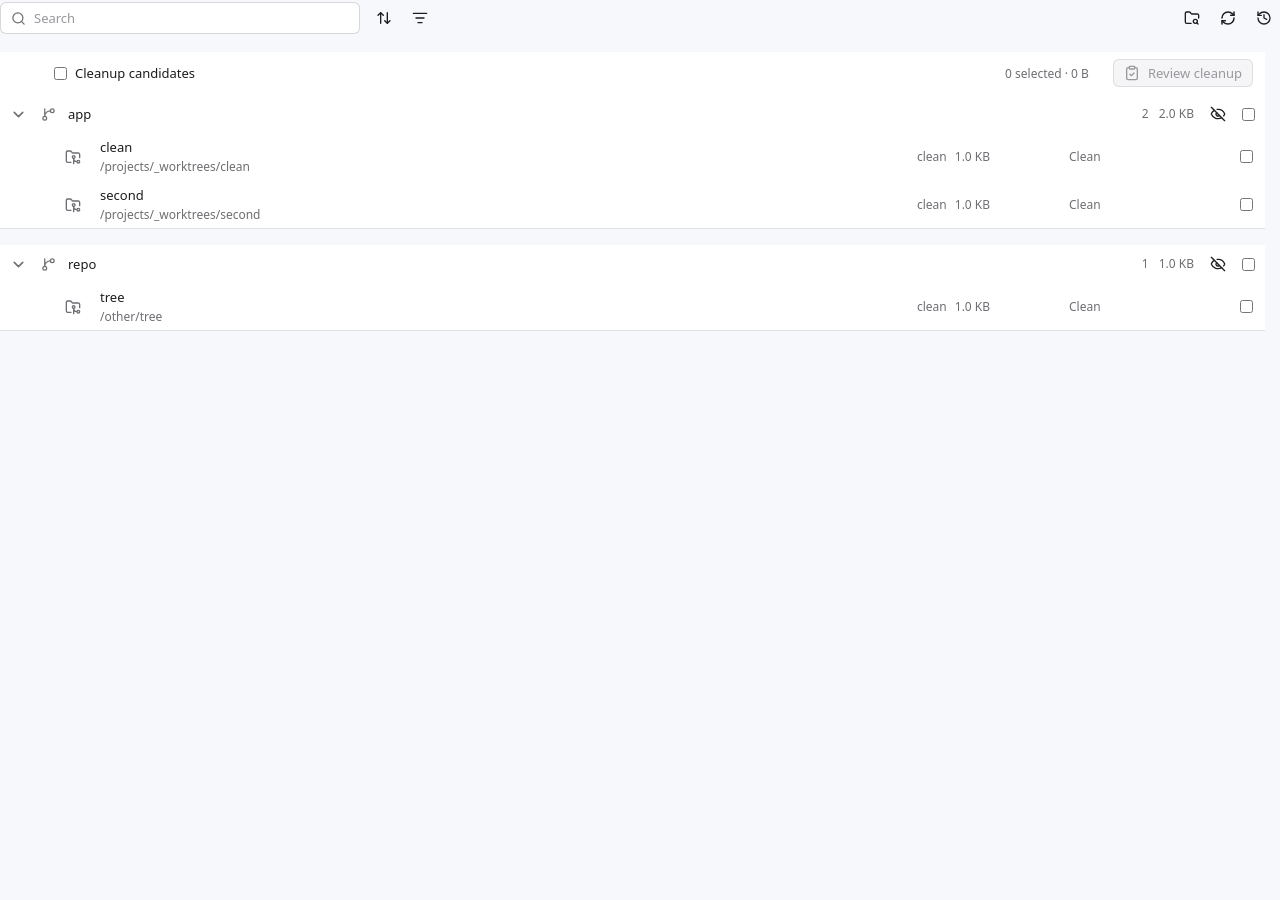
Test: WorktreeDialog › stops the failed repository, leaves later entries unexecuted, and continues independent repositories
The width and height of the screenshot is (1280, 900).
Expected: the text "/projects/_worktrees/clean" is shown, [100, 158, 250, 175]
Click the checkbox named "Select all eligible Worktrees" next to "2.0 KB".
click(1248, 114)  # box [1242, 108, 1255, 120]
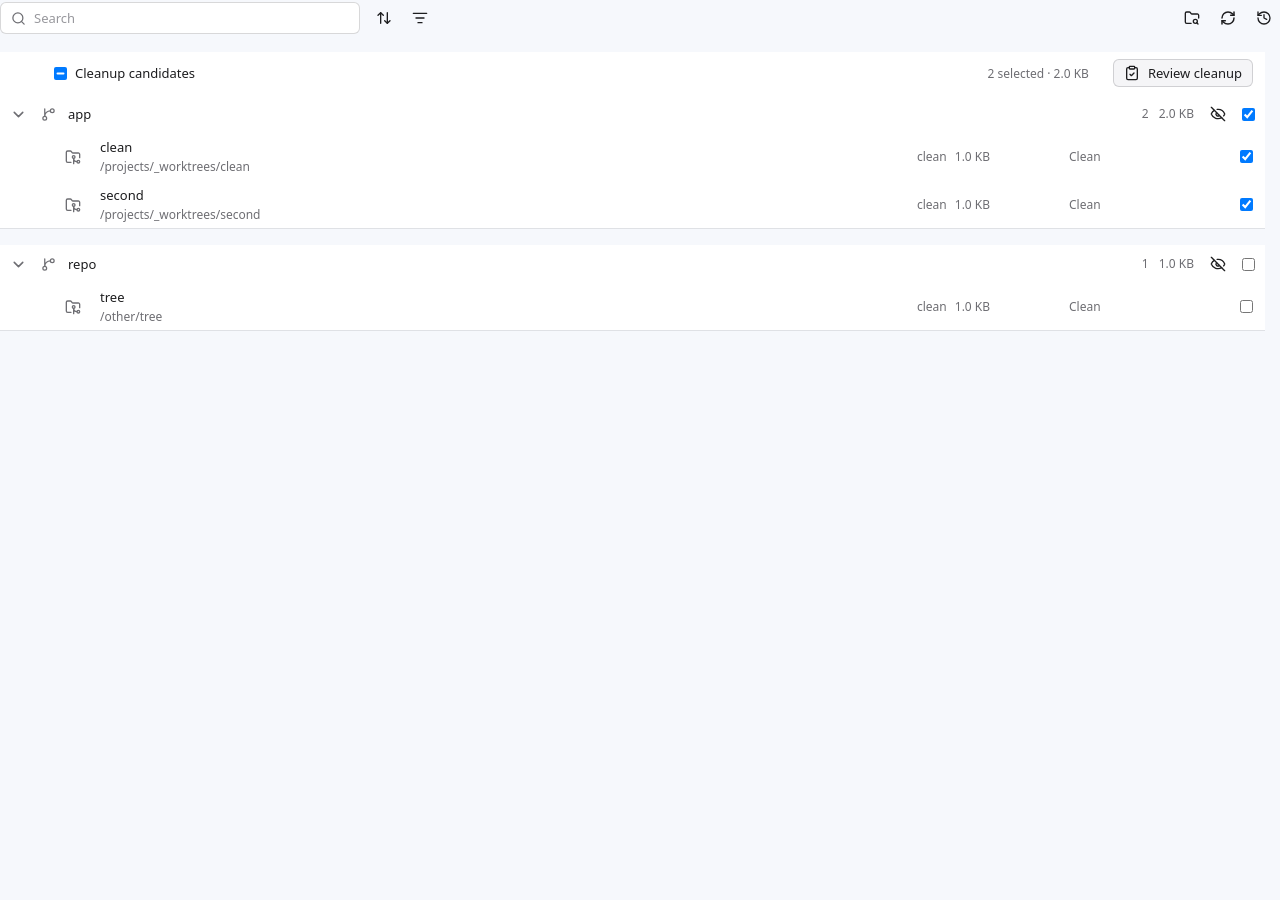
Click the 2nd checkbox named "Select all eligible Worktrees".
click(1248, 264)  # box [1242, 258, 1255, 270]
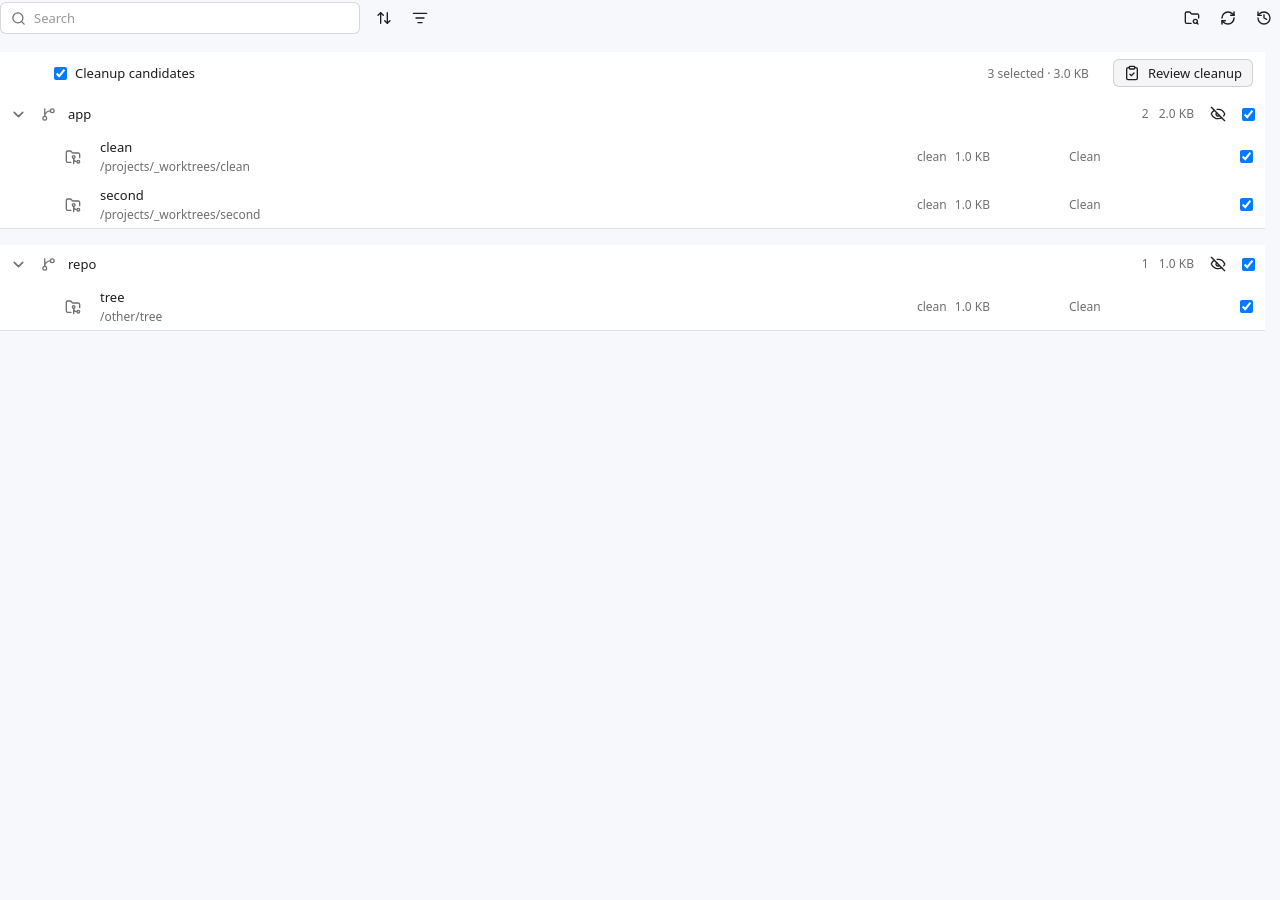
Click the button with aria-label "Review cleanup (3)".
click(1183, 73)  # box [1113, 59, 1253, 87]
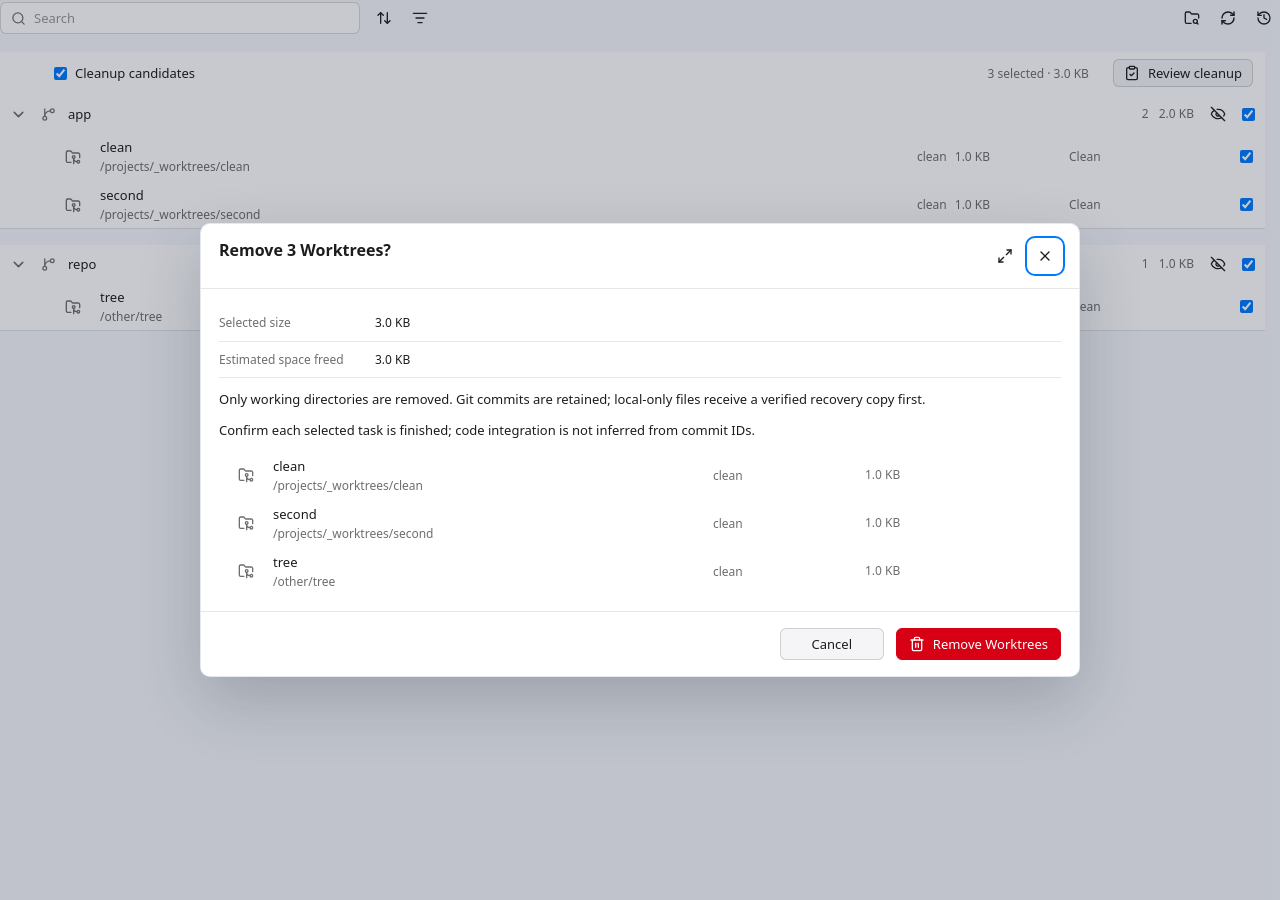
Click the button "Remove Worktrees".
click(978, 644)  # box [896, 628, 1061, 660]
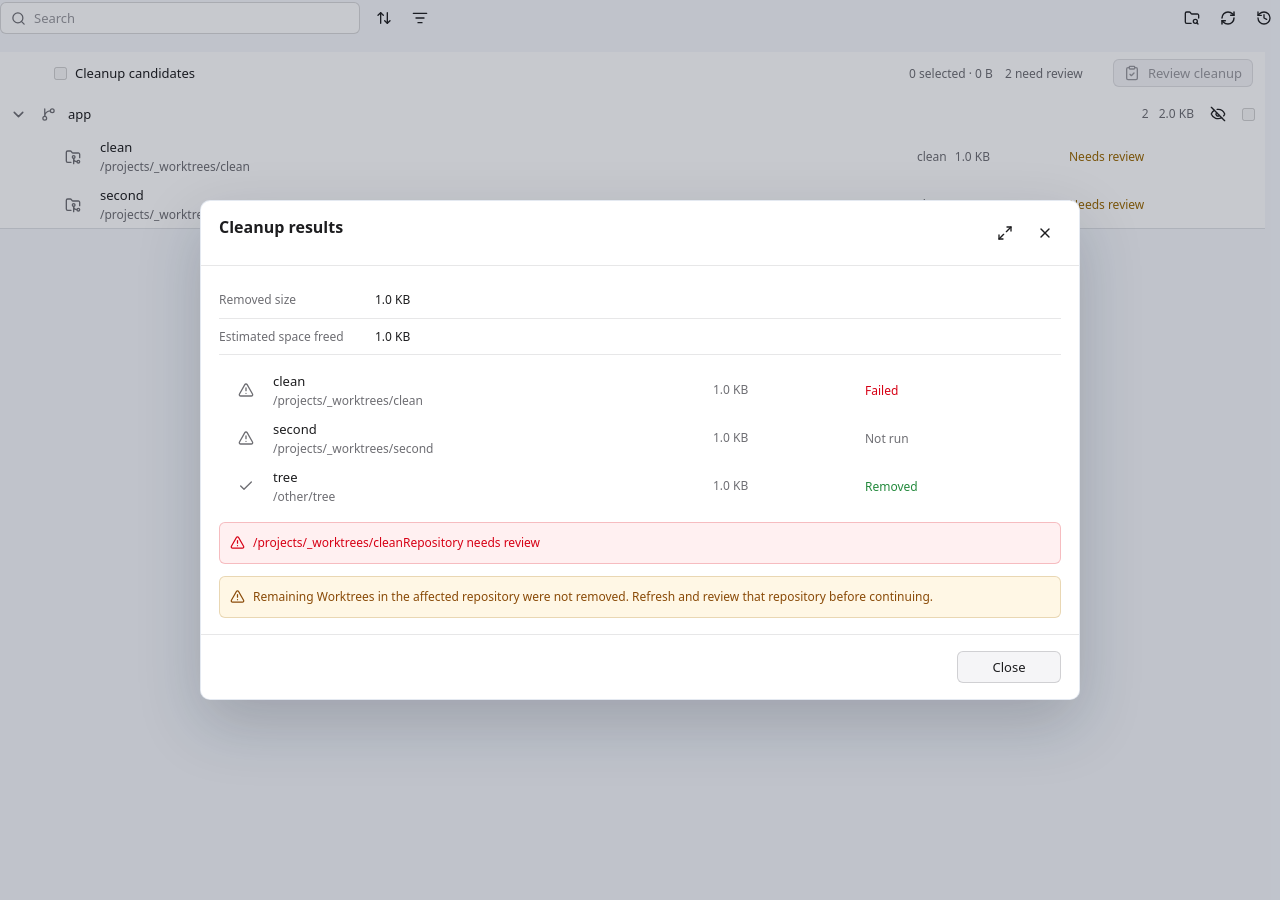
Expected: the text "Not run" is shown, [865, 430, 909, 447]
Expected: the text "Failed" is shown, [865, 382, 898, 399]
Expected: the text "Removed" is shown, [865, 478, 918, 495]
